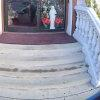stairs: (1, 42, 93, 100)
